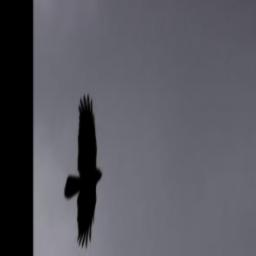Crow: (64, 93, 101, 248)
